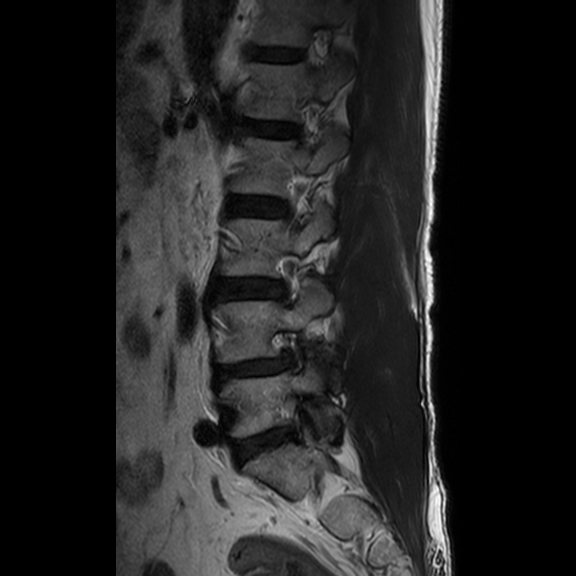LFS0: (269, 244, 328, 317)
LFS2: (262, 318, 316, 388)
